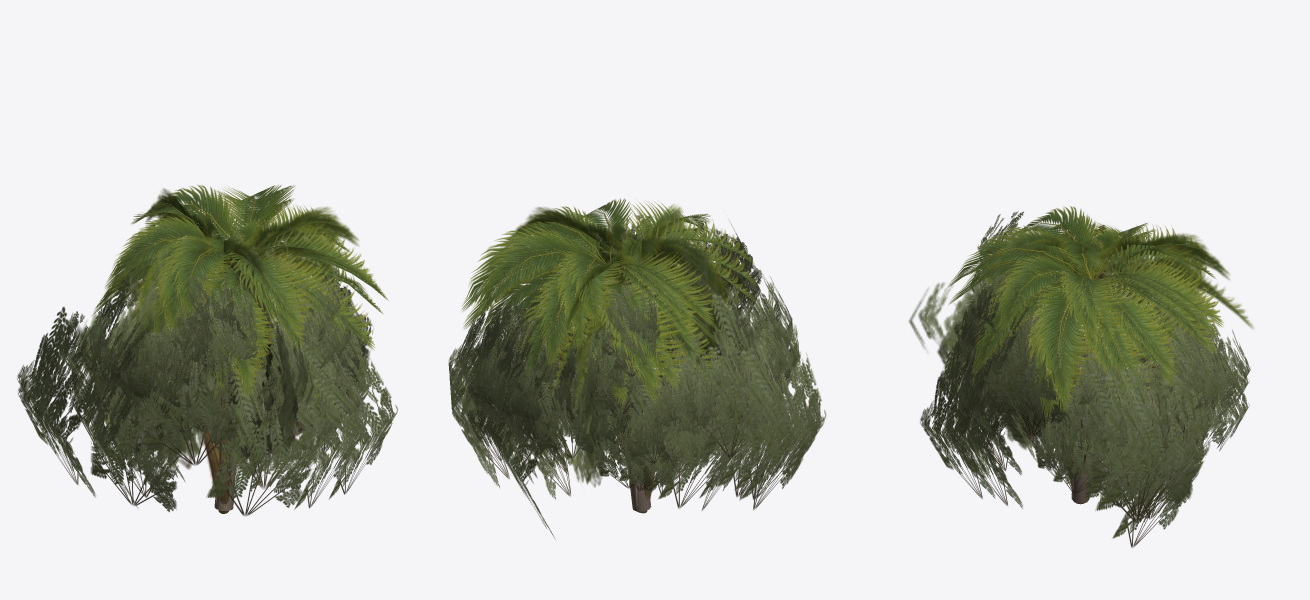
Rendered from trees-arid.glb.
3 renders of one model, left to right at view 1: azimuth 30°, elevation 25°; view 2: azimuth 150°, elevation 25°; view 3: azimuth 270°, elevation 25°, orthographic. The views are drawn at different scales.
Visible parts, largest first — view 1: tamarisk_mid_tree, palm_tree, tamarisk_tree, tamarisk_far_tree, palm_far_tree, palm_mid_tree; view 2: tamarisk_tree, tamarisk_mid_tree, palm_tree, palm_far_tree, tamarisk_far_tree, palm_mid_tree; view 3: tamarisk_mid_tree, palm_tree, tamarisk_tree, palm_mid_tree, palm_far_tree, tamarisk_far_tree.
Part boxes in pixels (<box>): tamarisk_mid_tree: <box>17,229,397,515</box>; palm_tree: <box>92,185,388,510</box>; tamarisk_tree: <box>57,222,352,513</box>; tamarisk_far_tree: <box>68,237,343,502</box>; palm_far_tree: <box>128,188,379,503</box>; palm_mid_tree: <box>110,198,383,510</box>; tamarisk_tree: <box>457,215,801,513</box>; tamarisk_mid_tree: <box>448,233,826,539</box>; palm_tree: <box>461,198,757,511</box>; palm_far_tree: <box>507,204,737,507</box>; tamarisk_far_tree: <box>524,209,797,501</box>; palm_mid_tree: <box>463,215,754,510</box>; tamarisk_mid_tree: <box>920,227,1229,547</box>; palm_tree: <box>947,206,1223,503</box>; tamarisk_tree: <box>954,211,1250,504</box>; palm_mid_tree: <box>949,229,1216,503</box>; palm_far_tree: <box>975,229,1253,342</box>; tamarisk_far_tree: <box>909,231,1214,487</box>.
Size of the model in its own units: 0.7304 by 0.7872 by 0.7304.
1 material, 1 textured.
